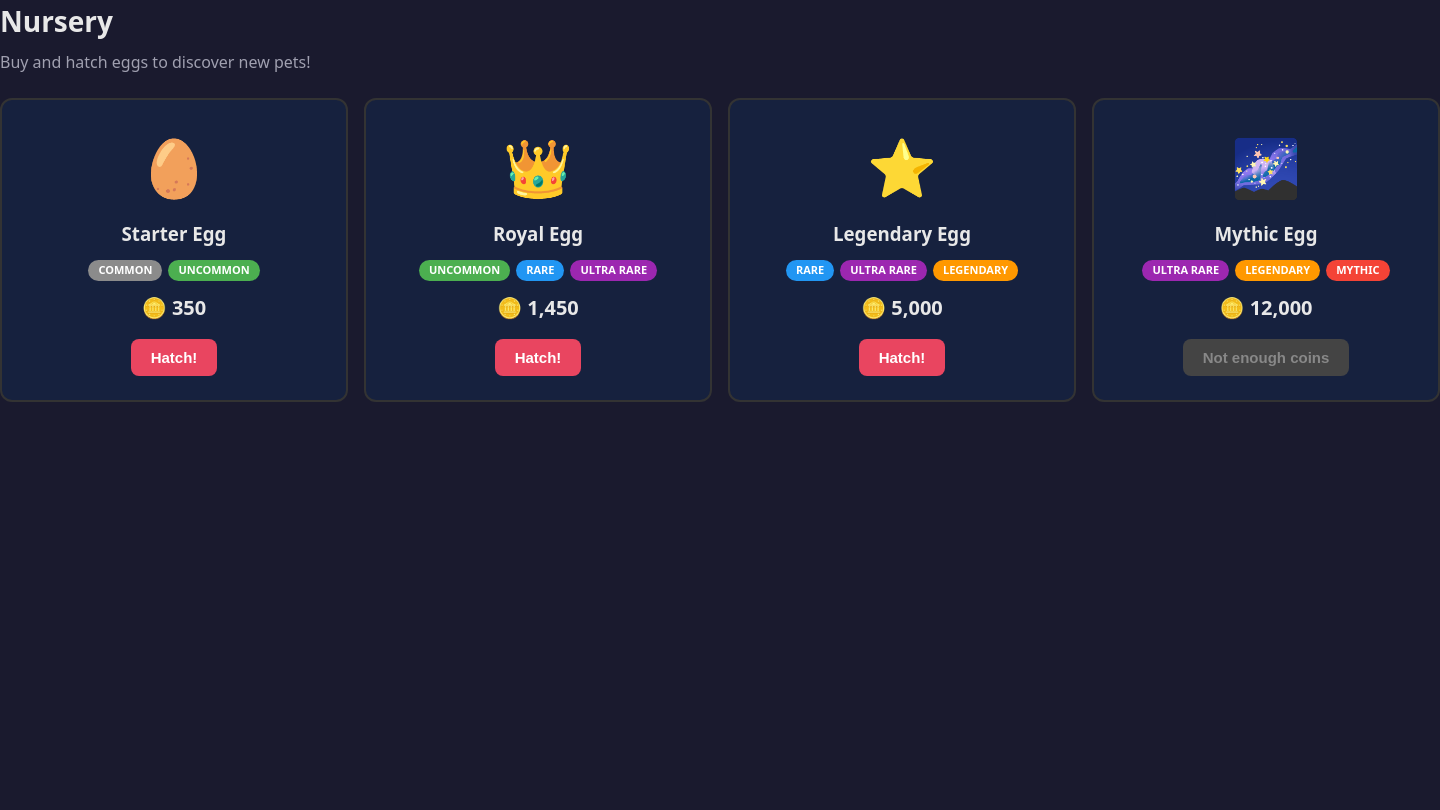
Scenario: Nursery › shows hatch animation after hatching an egg
Click the button "Hatch!" below "350".
click(174, 357)  # box [131,339,217,376]
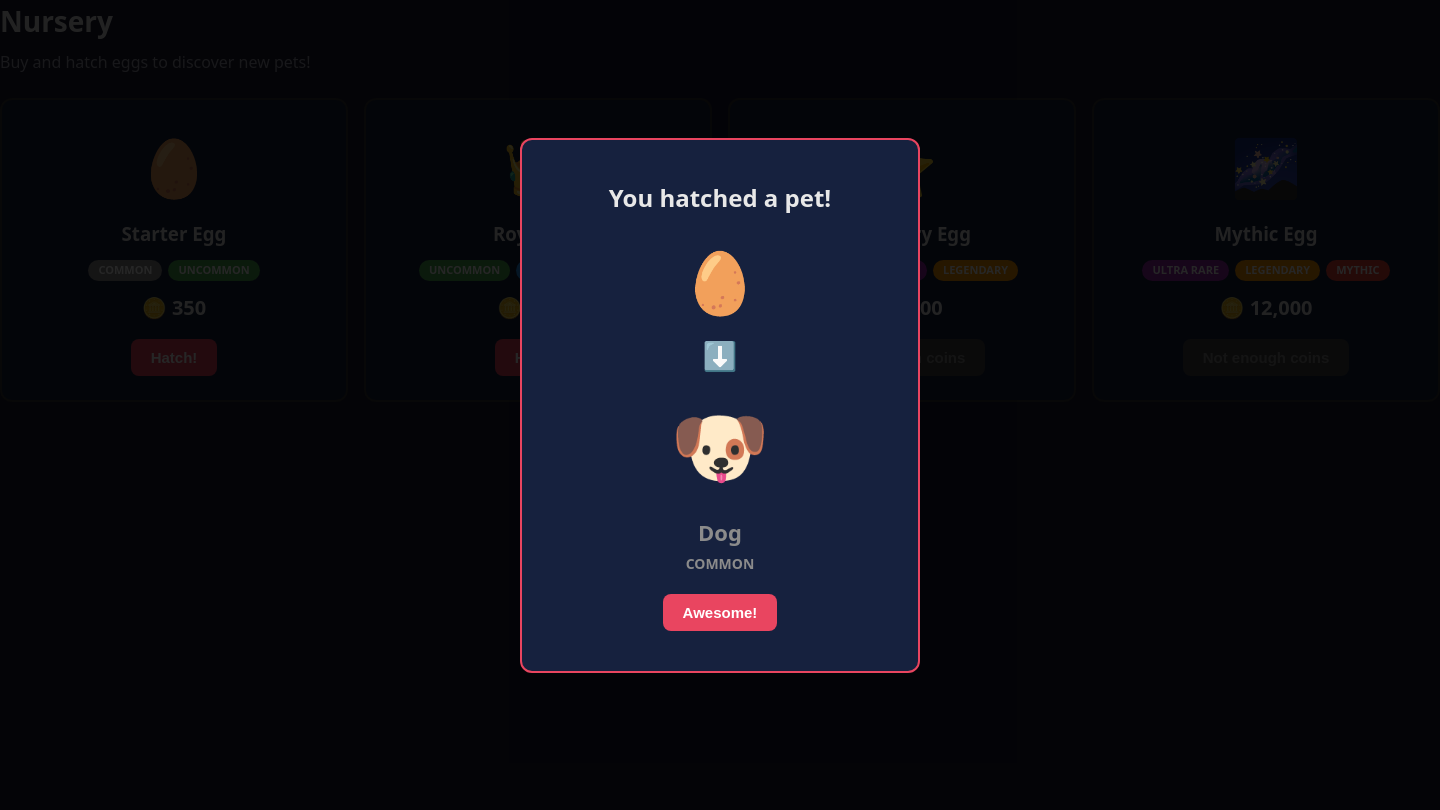
Check: the heading "You hatched a pet!" is shown, box [609,180,831,214]
Check: the button "Awesome!" is shown, box [663,594,777,630]
